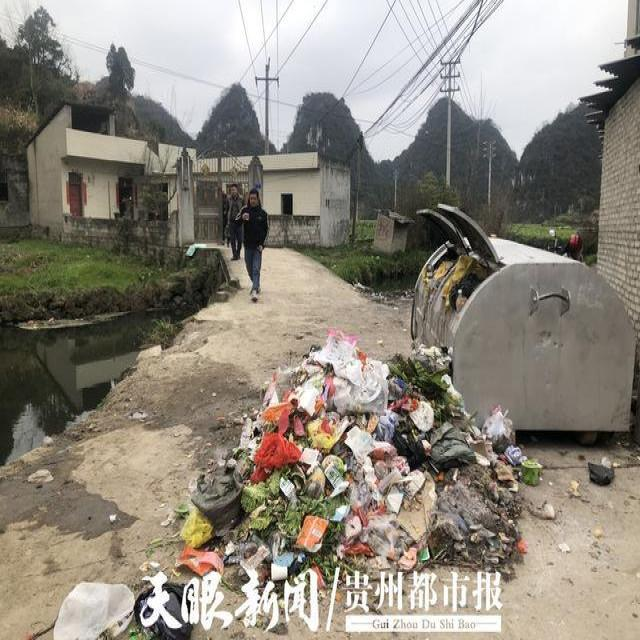garbage: (45, 326, 541, 638)
overflow: (412, 235, 634, 432)
